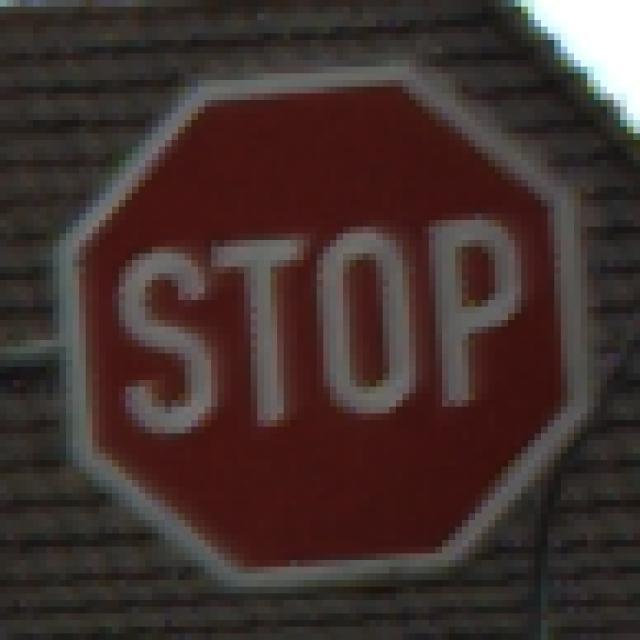stop: (44, 58, 600, 601)
